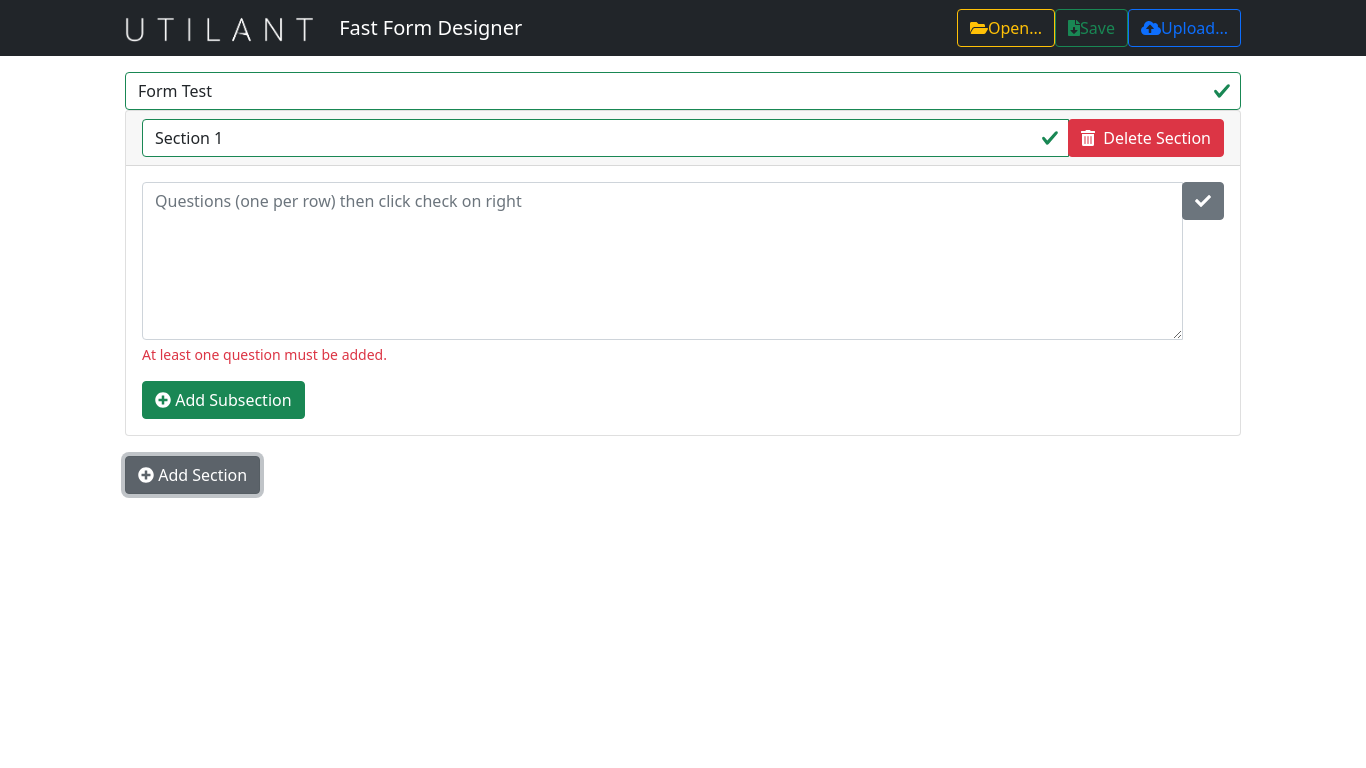
Test: E2E testing of Fast Form Designer › Adds subsection
Click the button with class "add-subsection": (224, 400) [142,381,305,419]
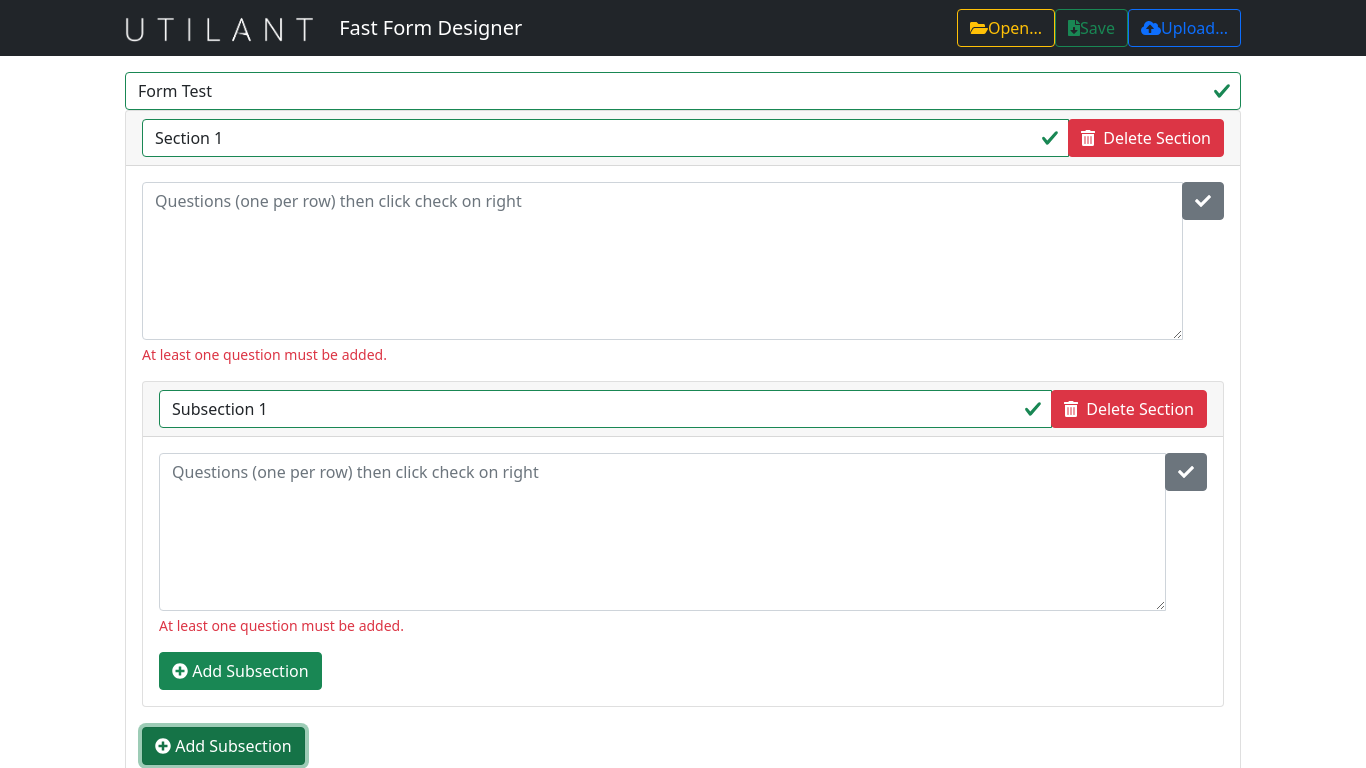
expect the field with id "sectionName" is shown: met, box [159,390,1052,428]
